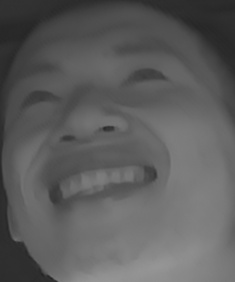eye: (118, 59, 169, 94), (11, 82, 59, 113)
mouth: (45, 152, 159, 217)
